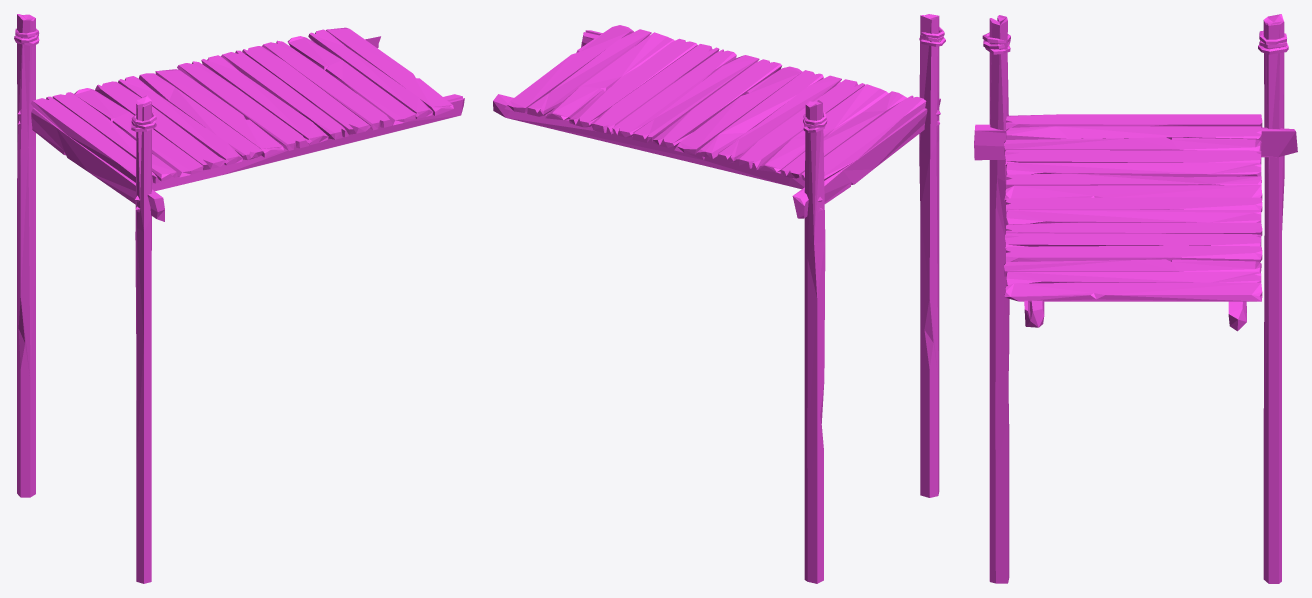
The model's file is SM_Pier_Platform_Rope_Short_B_Fantasy.fbx.
3 renders of one model, left to right at view 1: azimuth 30°, elevation 25°; view 2: azimuth 150°, elevation 25°; view 3: azimuth 270°, elevation 25°, orthographic. The views are drawn at different scales.
Parts seen in each view (by area): view 1: SM_Pier_Platform_Rope_Short_B_Fantasy; view 2: SM_Pier_Platform_Rope_Short_B_Fantasy; view 3: SM_Pier_Platform_Rope_Short_B_Fantasy.
Boxes of the visible parts, x1=… form: SM_Pier_Platform_Rope_Short_B_Fantasy: x1=14, y1=14, x2=464, y2=583; SM_Pier_Platform_Rope_Short_B_Fantasy: x1=493, y1=14, x2=945, y2=583; SM_Pier_Platform_Rope_Short_B_Fantasy: x1=974, y1=14, x2=1297, y2=583.
Bounding box in the file's own units: 5.51 × 7.26 × 3.79.
